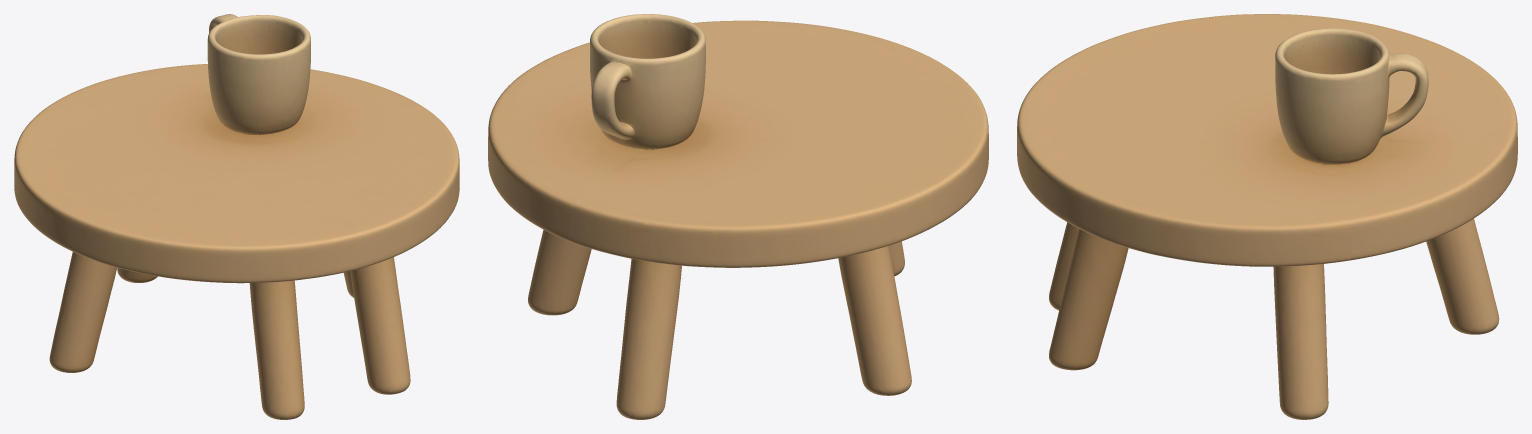
Rendered from DefaultTable.fbx.
3 views of the same model, side by side, from view 1: azimuth 30°, elevation 25°; view 2: azimuth 150°, elevation 25°; view 3: azimuth 270°, elevation 25° (orthographic). The views are drawn at different scales.
Visible parts, largest first — view 1: tripo_node_4540460a; view 2: tripo_node_4540460a; view 3: tripo_node_4540460a.
Boxes of the visible parts, x1,y1,x2,y2 form: tripo_node_4540460a: [14, 14, 459, 419]; tripo_node_4540460a: [488, 14, 988, 419]; tripo_node_4540460a: [1017, 14, 1517, 419].
Bounding box in the file's own units: 0.9799 × 0.6644 × 0.9797.
